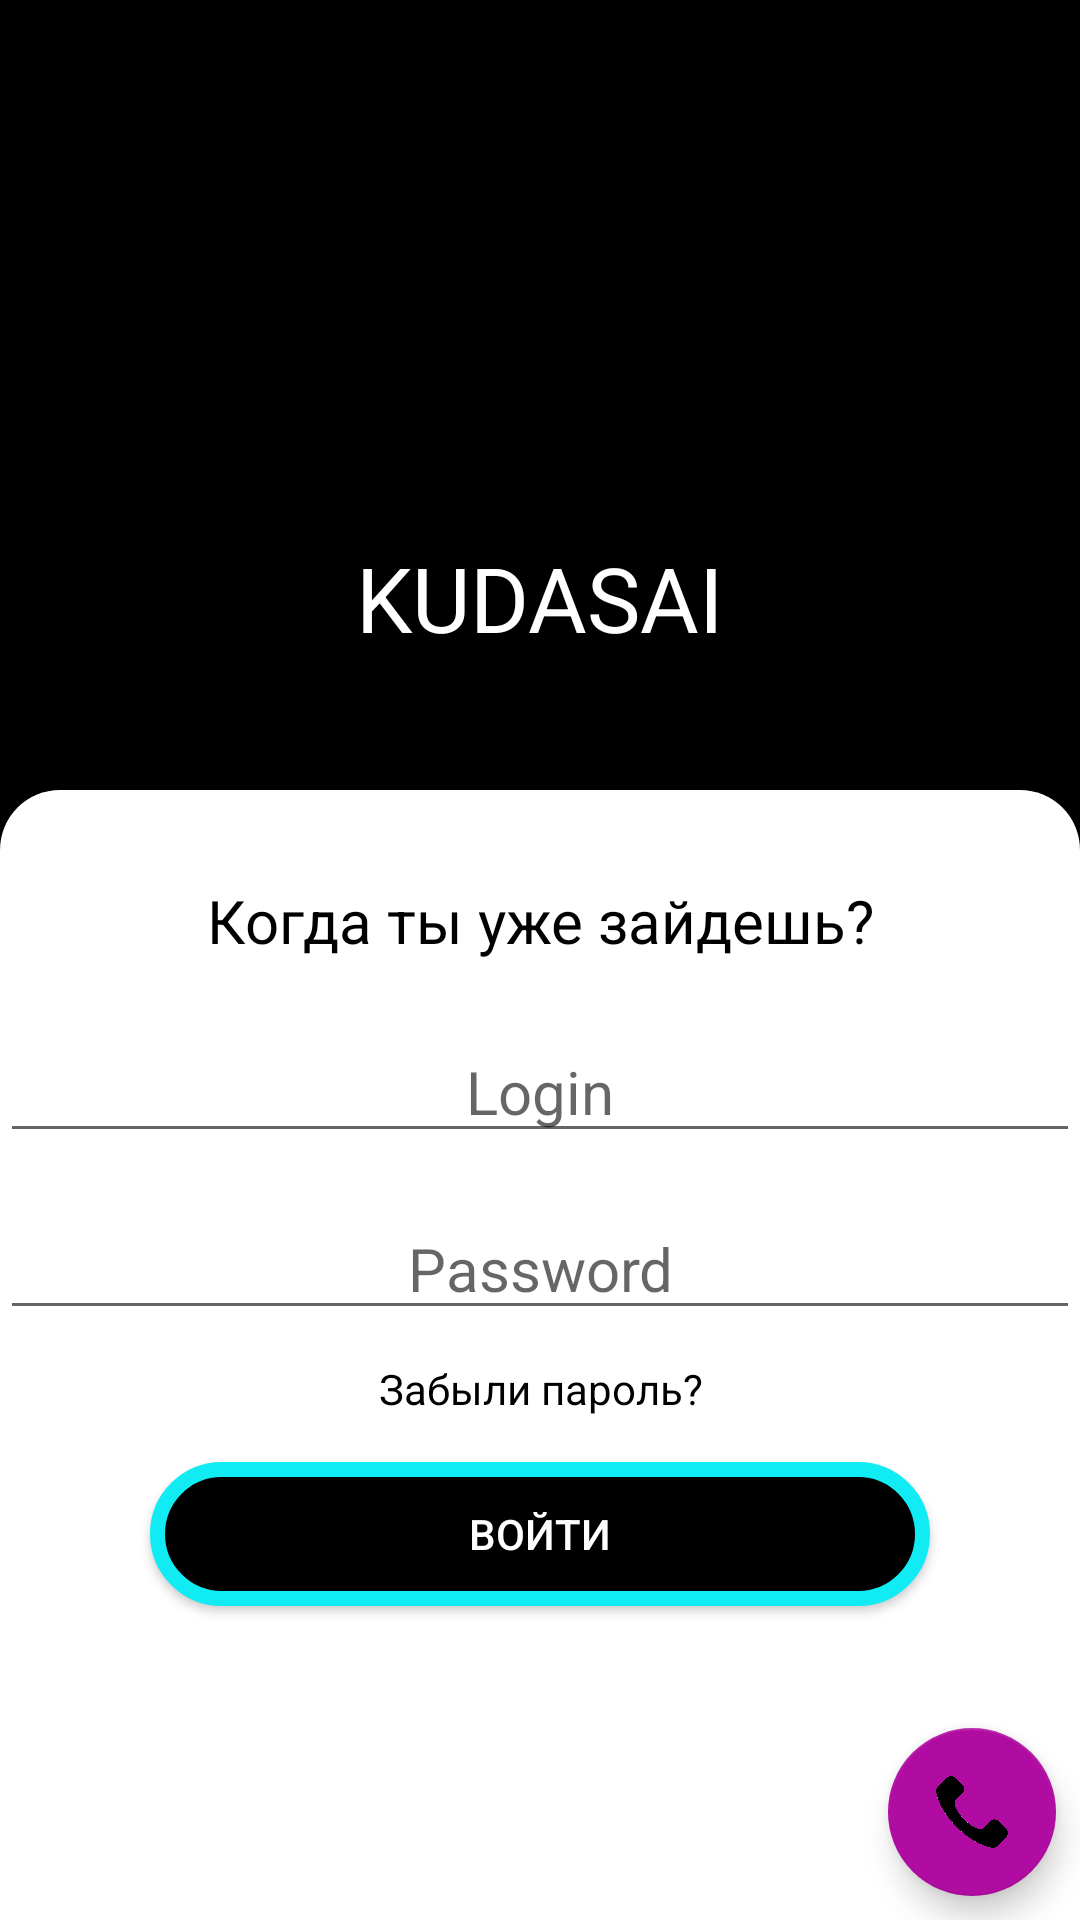

Screen size 1080 x 1920. Icon name, then its box in pixels as (x1, y1, x2, y2):
phone: (888, 1728, 1056, 1896)
